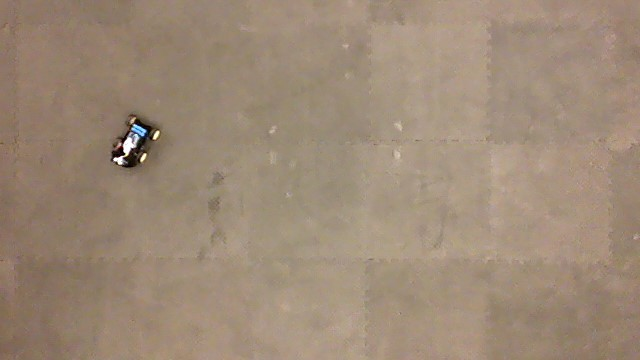Agent: (109, 111, 162, 169)
